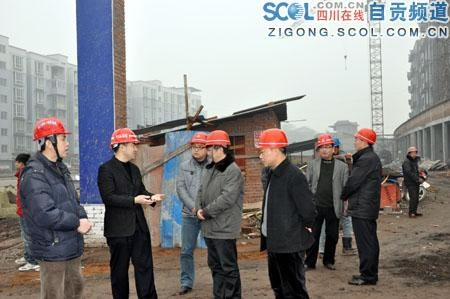red: (33, 115, 71, 161), (255, 126, 289, 168), (108, 126, 139, 162), (204, 130, 230, 162), (352, 126, 378, 153), (189, 131, 207, 160), (315, 134, 334, 159), (406, 146, 418, 159)
